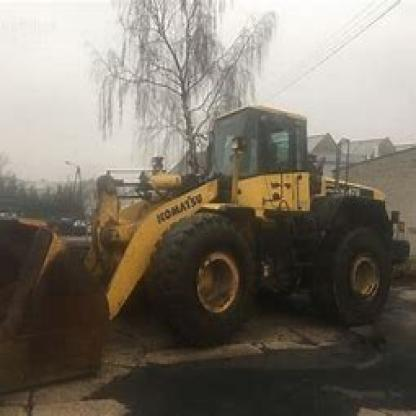bull_dozer/loader/grader: (5, 94, 408, 392)
